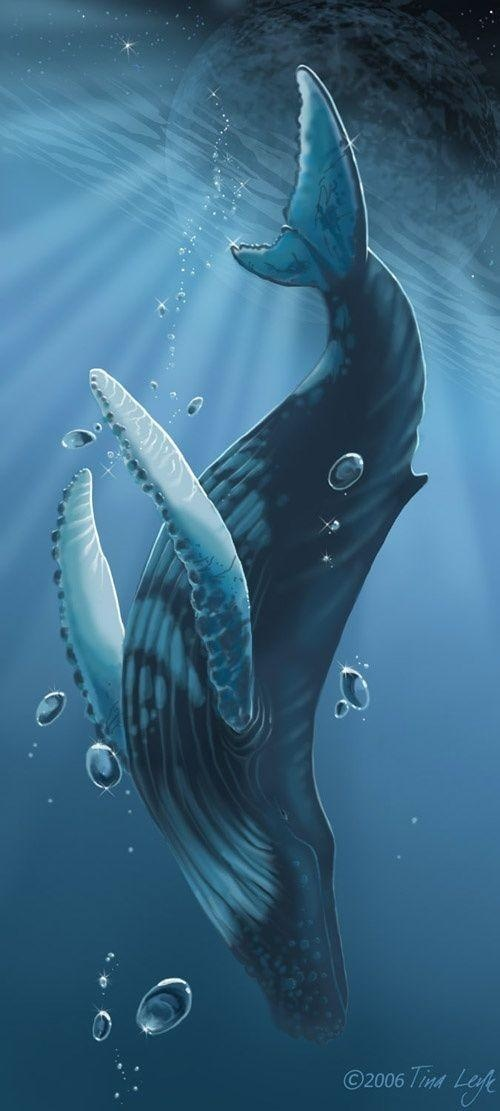fish: (48, 59, 487, 1033)
